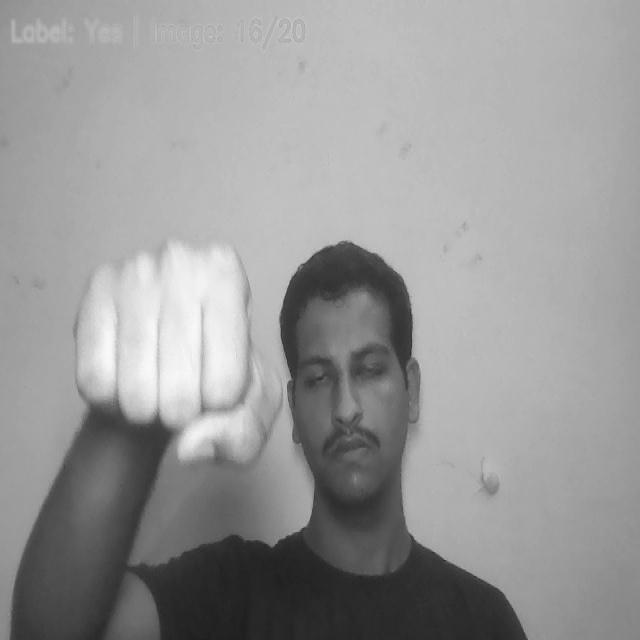Yes: (70, 230, 281, 468)
